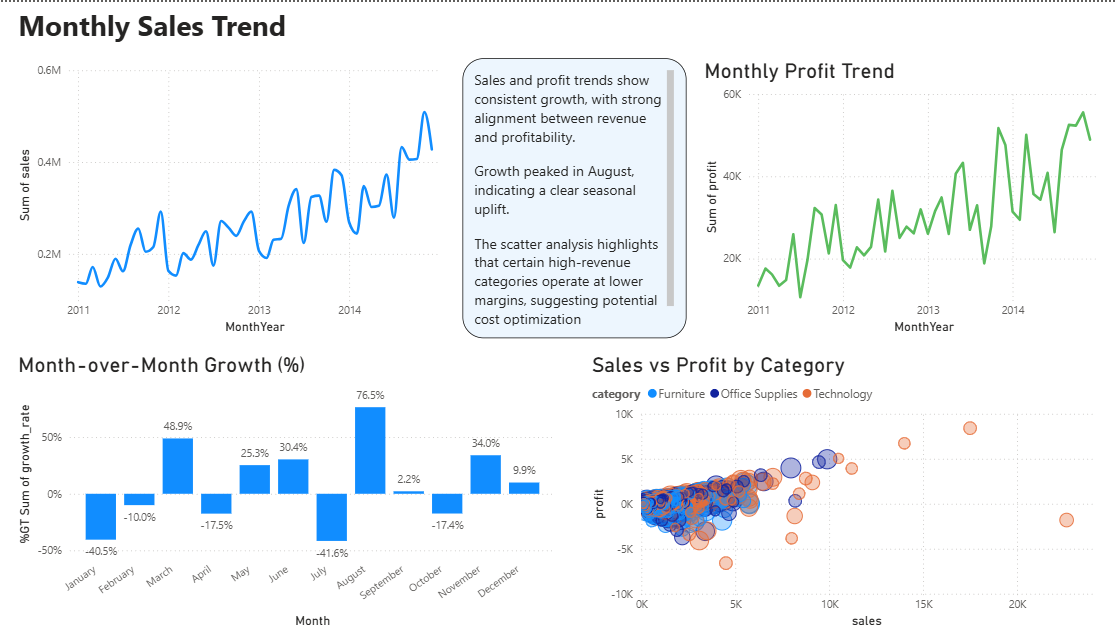

The dashboard page shown, as its layout file describes it:
{"tool":"powerbi","page":{"name":"Page 2","canvas":[1280,720],"ordinal":1},"visuals":[{"type":"lineChart","fields":{"Y":["Sum(dashboard_data.sales)"],"Category":["dashboard_data.month.Variation.Date Hierarchy.Year","dashboard_data.month.Variation.Date Hierarchy.Quarter","dashboard_data.month.Variation.Date Hierarchy.Month","dashboard_data.month.Variation.Date Hierarchy.Day"]},"box":[16,64,496,320],"z":0},{"type":"textbox","box":[15.7,0,448.6,64.3],"z":1000},{"type":"lineChart","title":"Monthly Profit Trend","fields":{"Y":["Sum(dashboard_data.profit)"],"Category":["dashboard_data.month.Variation.Date Hierarchy.Year","dashboard_data.month.Variation.Date Hierarchy.Quarter","dashboard_data.month.Variation.Date Hierarchy.Month","dashboard_data.month.Variation.Date Hierarchy.Day"]},"box":[800,64,464,320],"z":2000},{"type":"columnChart","title":"Month-over-Month Growth (%)","fields":{"Category":["sales_trend.month.Variation.Date Hierarchy.Month","sales_trend.month.Variation.Date Hierarchy.Day"],"Y":["Sum(sales_trend.growth_rate)"]},"box":[16,400,624,320],"z":3000},{"type":"scatterChart","title":"Sales vs Profit by Category","fields":{"X":["dashboard_data.sales"],"Y":["dashboard_data.profit"],"Size":["Sum(dashboard_data.quantity)"],"Series":["dashboard_data.category"]},"box":[672,400,592,320],"z":4000},{"type":"textbox","box":[528,64,256,320],"z":5000}]}

Visuals, with their boxes in screenshot pixels (x1, y1, x2, y2), scaled from the page's 1280x720 canvas onto the 1117x632 screenshot:
lineChart - Sum(dashboard_data.sales) x dashboard_data.month.Variation.Date Hierarchy.Year: 14,56,447,337
textbox: 14,0,405,56
"Monthly Profit Trend" lineChart: 698,56,1103,337
"Month-over-Month Growth (%)" columnChart: 14,351,558,631
"Sales vs Profit by Category" scatterChart: 586,351,1103,631
textbox: 461,56,684,337
